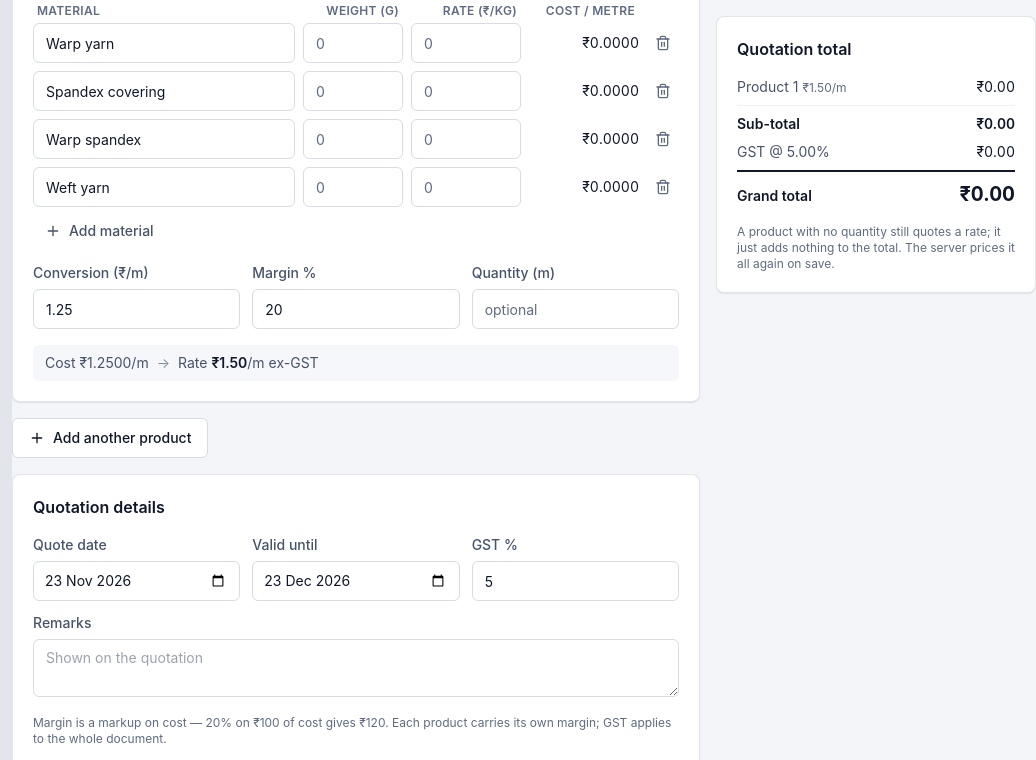
Test case: several products on one quotation › adds a second product with its own four rows
(page scrolled)
Click the button "Add another product".
click(110, 438)  # box [12,418,208,458]
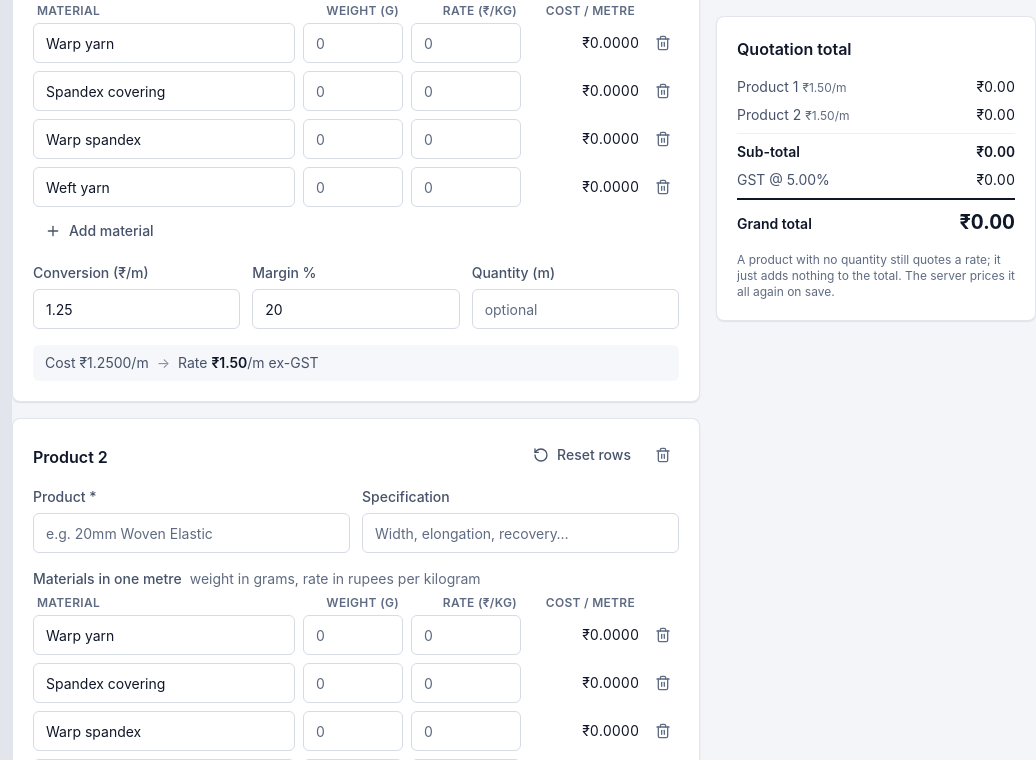
Expected: the number of fields labelled "product *" is 2
